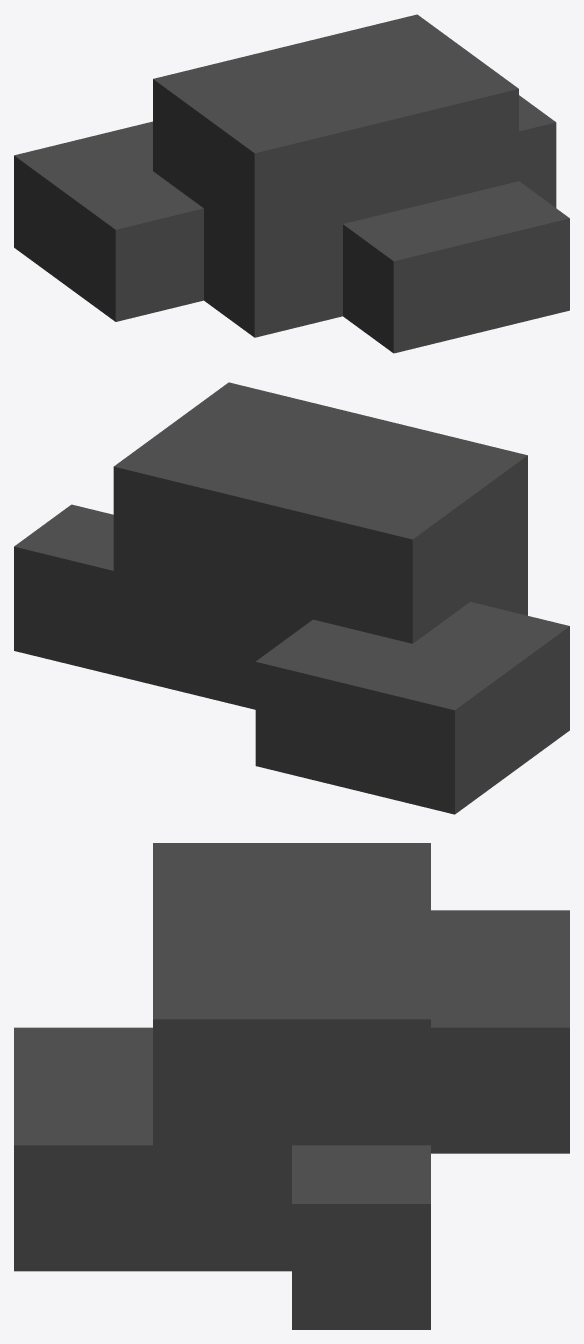
File: stone-1.gltf
3 views of the same model, one above another, from view 1: azimuth 30°, elevation 25°; view 2: azimuth 150°, elevation 25°; view 3: azimuth 270°, elevation 25° (orthographic). The views are drawn at different scales.
Visible parts, largest first — view 1: stone-1; view 2: stone-1; view 3: stone-1.
Part boxes in pixels (x1,y1,x2,y2): stone-1: [14, 14, 569, 353]; stone-1: [14, 382, 569, 814]; stone-1: [14, 843, 569, 1329].
Size of the model in its own units: 0.5 by 0.2 by 0.4.
1 material, 1 textured.
